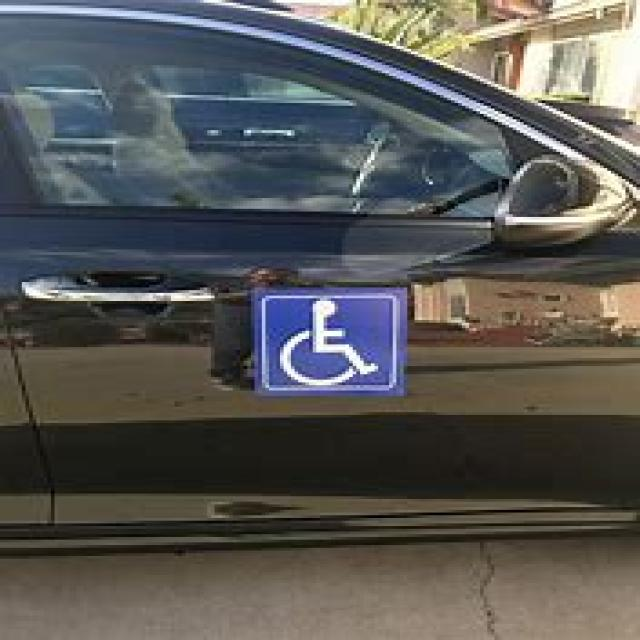car-handicap-placard: (268, 301, 393, 388)
